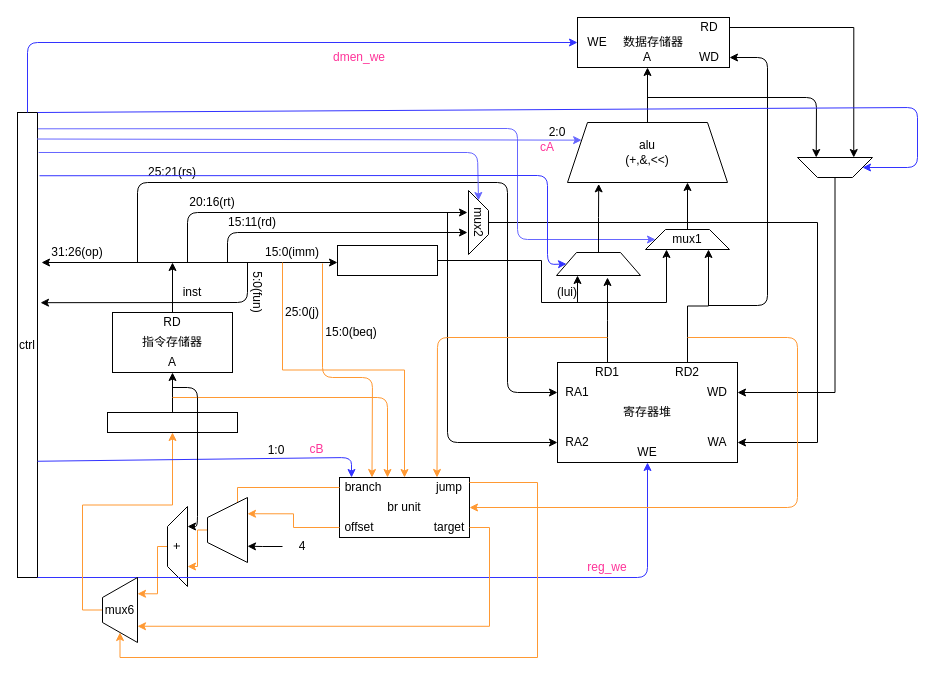
Some shapes in this 943 by 683 pixel diagram are drawn without their labels. Here are the shapes that lost their labels. From the top down, the centre of each, then its label:
point (834, 167): mux4
point (387, 260): 符号扩展
point (598, 264): mux3
point (172, 422): pc
point (227, 529): mux5
